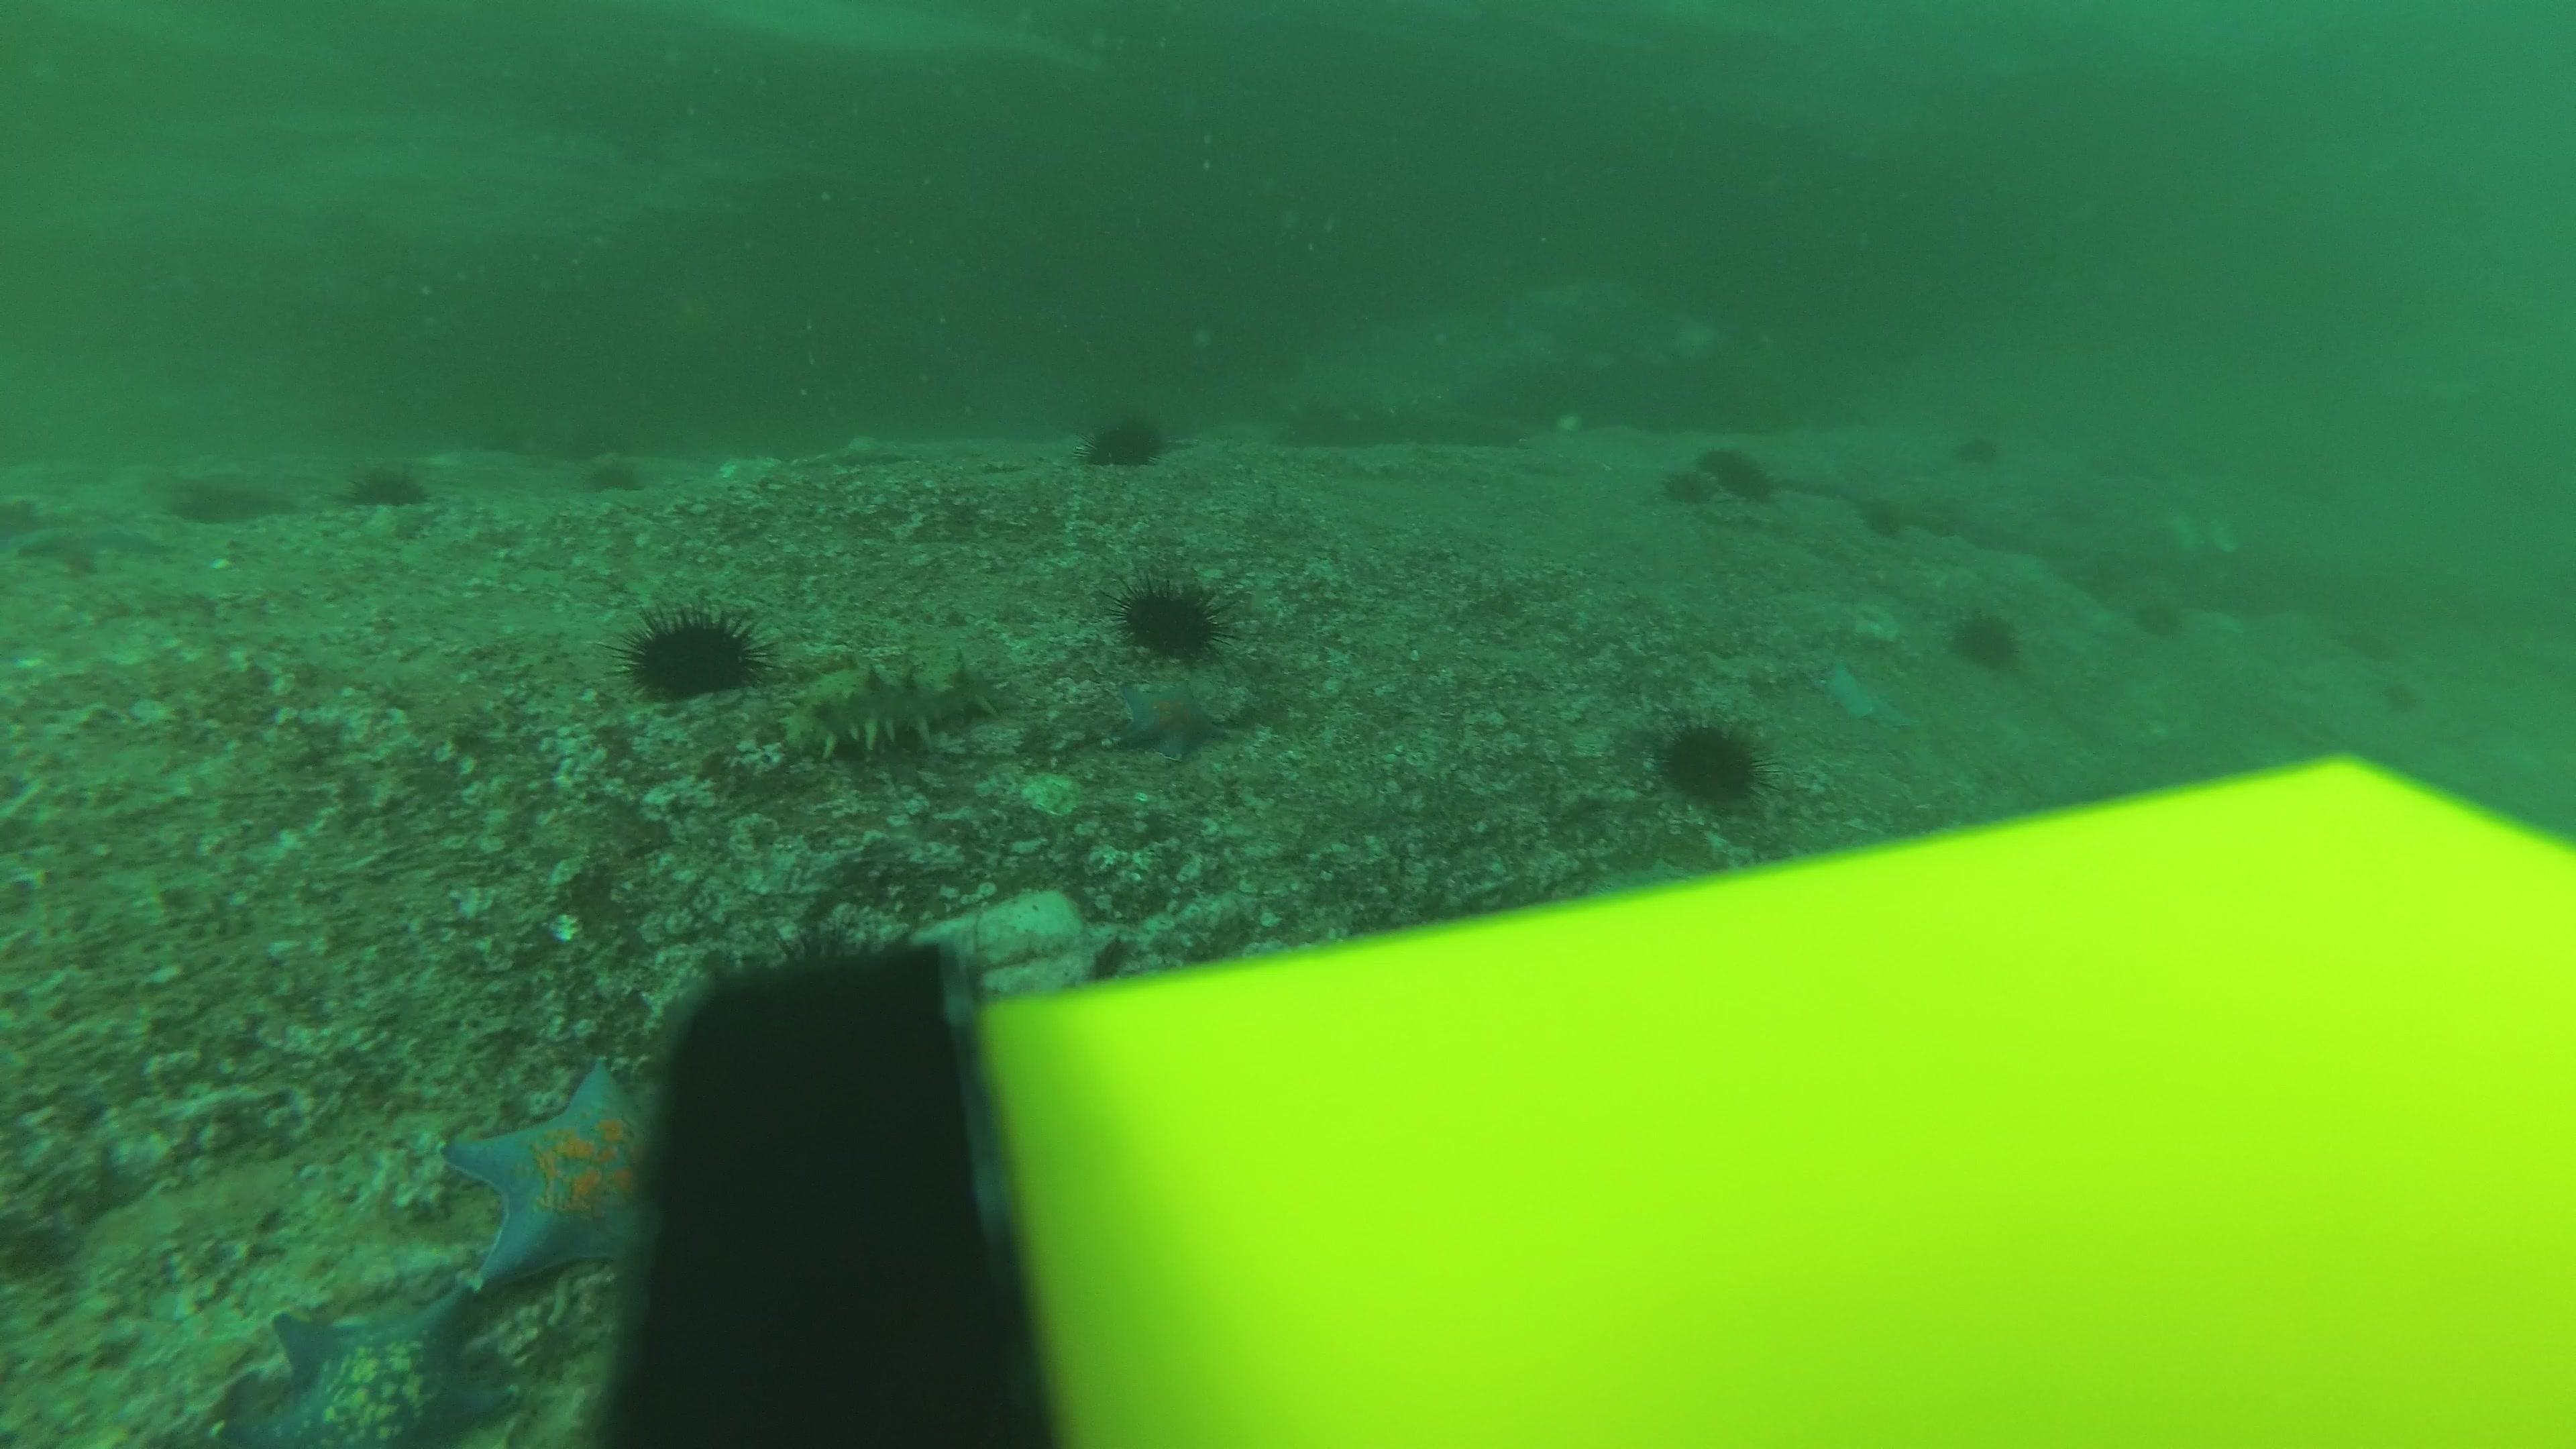echinus: (621, 602, 764, 706), (1651, 711, 1769, 810), (1116, 571, 1226, 662), (166, 467, 288, 527), (1079, 403, 1171, 472), (1946, 602, 2026, 672), (347, 456, 432, 513), (1716, 439, 1775, 499), (2128, 589, 2190, 644), (582, 449, 649, 497), (1856, 492, 1909, 543), (1951, 425, 2006, 471), (1665, 464, 1704, 508)
holothurian: (775, 646, 1008, 768)
starfish: (441, 1054, 676, 1293), (230, 1279, 522, 1438), (5, 499, 172, 573), (1106, 676, 1235, 761), (1819, 653, 1918, 731)
